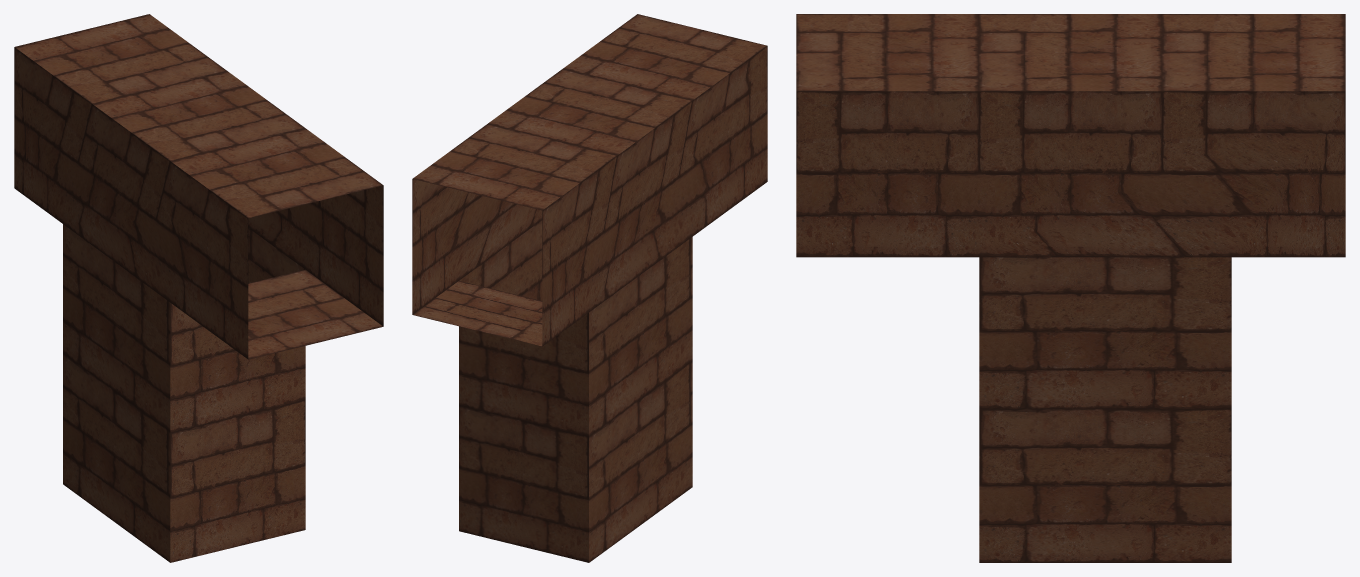
Rendered from CorridorTrap2.fbx.
3 renders of one model, left to right at view 1: azimuth 30°, elevation 25°; view 2: azimuth 150°, elevation 25°; view 3: azimuth 270°, elevation 25°, orthographic. The views are drawn at different scales.
Visible parts, largest first — view 1: Corridor_Trap_1x3; view 2: Corridor_Trap_1x3; view 3: Corridor_Trap_1x3.
Part boxes in pixels (x1,y1,x2,y2): Corridor_Trap_1x3: (14, 14, 383, 562); Corridor_Trap_1x3: (412, 14, 767, 562); Corridor_Trap_1x3: (796, 14, 1345, 562).
Bounding box in the file's own units: 66.08 × 198 × 188.
